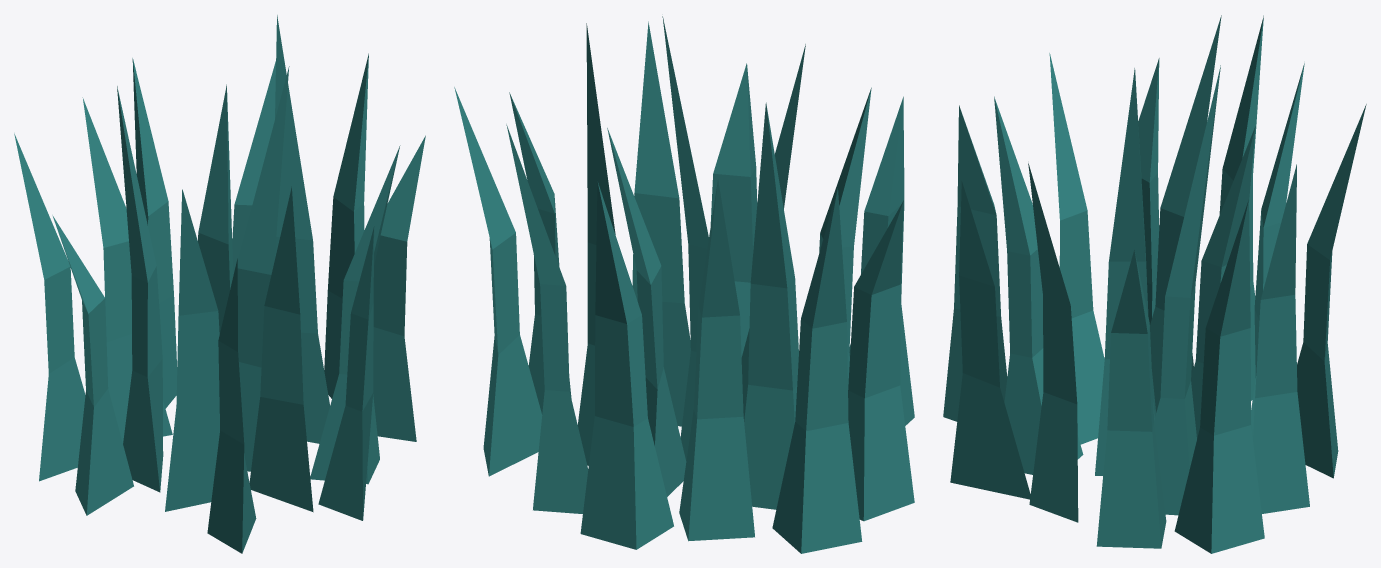
Rendered from Grass_2_Blue.fbx.
3 renders of one model, left to right at view 1: azimuth 30°, elevation 25°; view 2: azimuth 150°, elevation 25°; view 3: azimuth 270°, elevation 25°, orthographic. The views are drawn at different scales.
Visible parts, largest first — view 1: Grass_2_Blue; view 2: Grass_2_Blue; view 3: Grass_2_Blue.
Boxes of the visible parts, x1,y1,x2,y2 form: Grass_2_Blue: (14, 15, 425, 553); Grass_2_Blue: (454, 16, 914, 553); Grass_2_Blue: (943, 15, 1366, 553).
Size of the model in its own units: 45.15 by 48.36 by 42.27.
